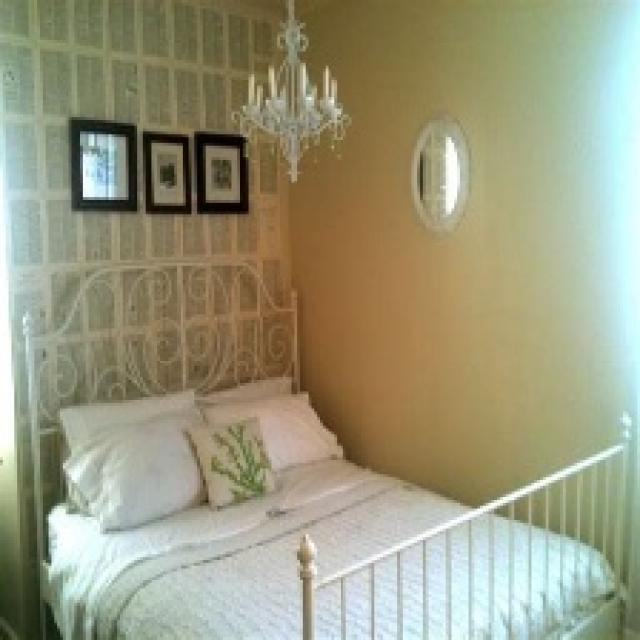Bed: (17, 257, 632, 637)
